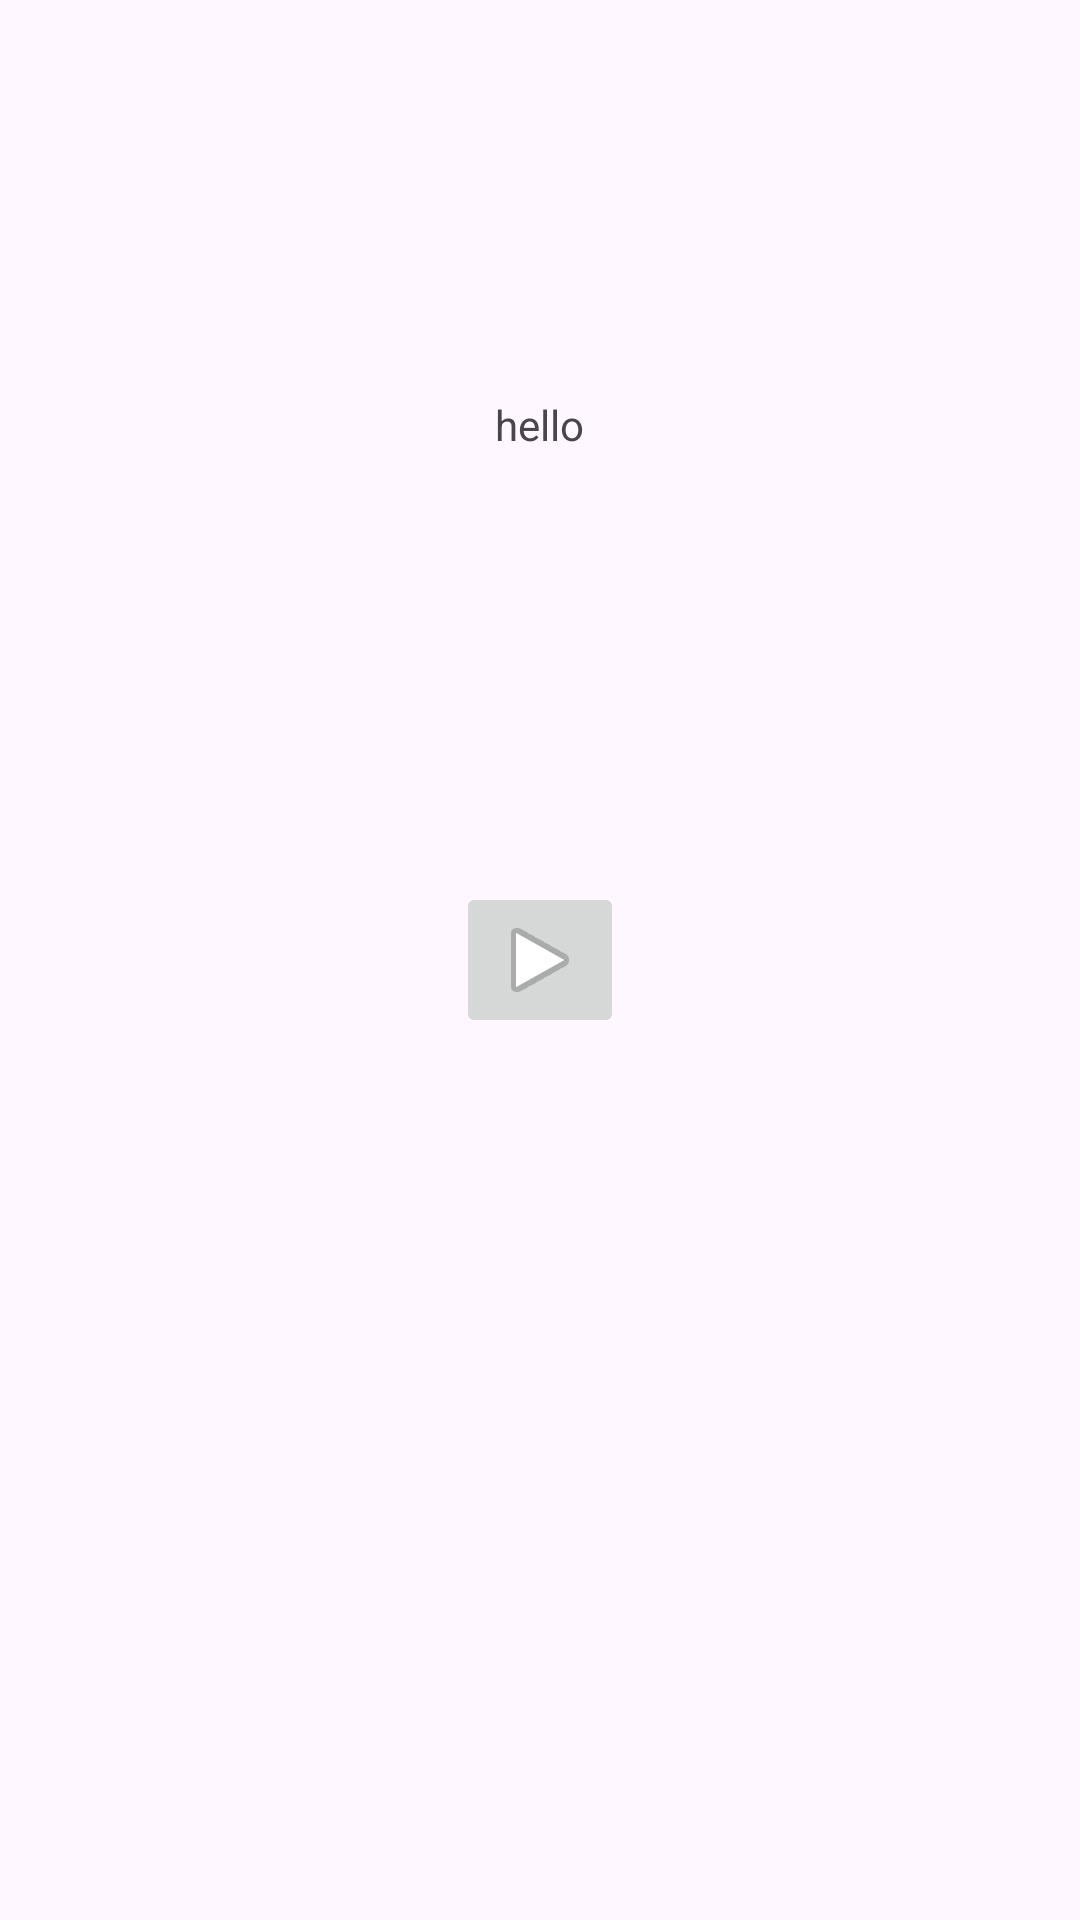

Where icons sit on this 1080*1920 app screen, as rect(x1, y1, x2, y2):
play: rect(468, 900, 612, 1020)
